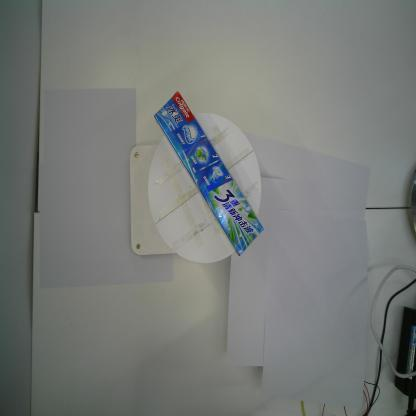Personal Hygiene: (154, 90, 265, 258)
